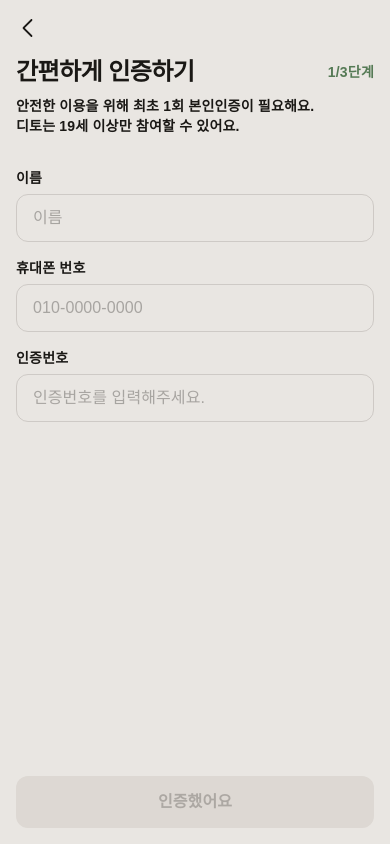
Scenario: signup flow › advances from step 1 to step 2 when all fields are filled
The width and height of the screenshot is (390, 844).
Check: the text "간편하게 인증하기" is shown, box [16,56,194,88]
Type "이테스트" into the field with placeholder "이름".
click(195, 218); type("이테스트")  # box [33,206,357,230]
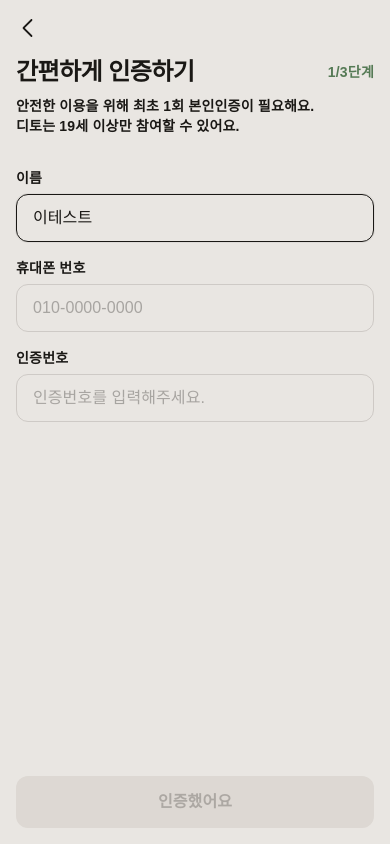
Type "01012345678" into the field with placeholder "010-0000-0000".
click(195, 308); type("01012345678")  # box [33,296,357,320]
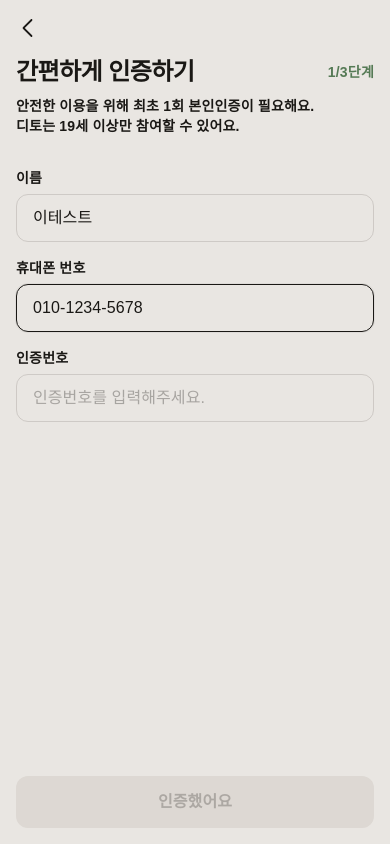
Type "123456" into the field with placeholder "인증번호를 입력해주세요.".
click(195, 398); type("123456")  # box [33,386,357,410]
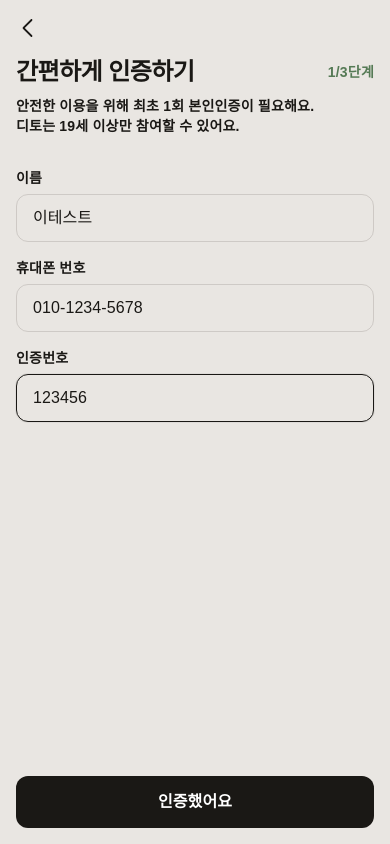
Click the button "인증했어요".
click(195, 802)  # box [16,776,374,828]
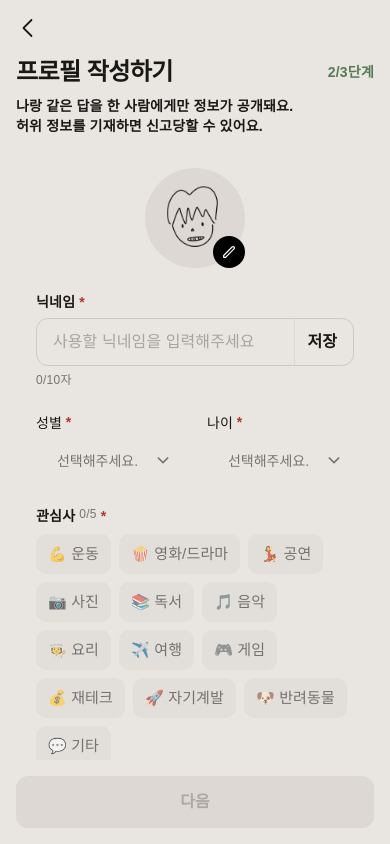
Check: the text "프로필 작성하기" is shown, box [16,56,173,88]
